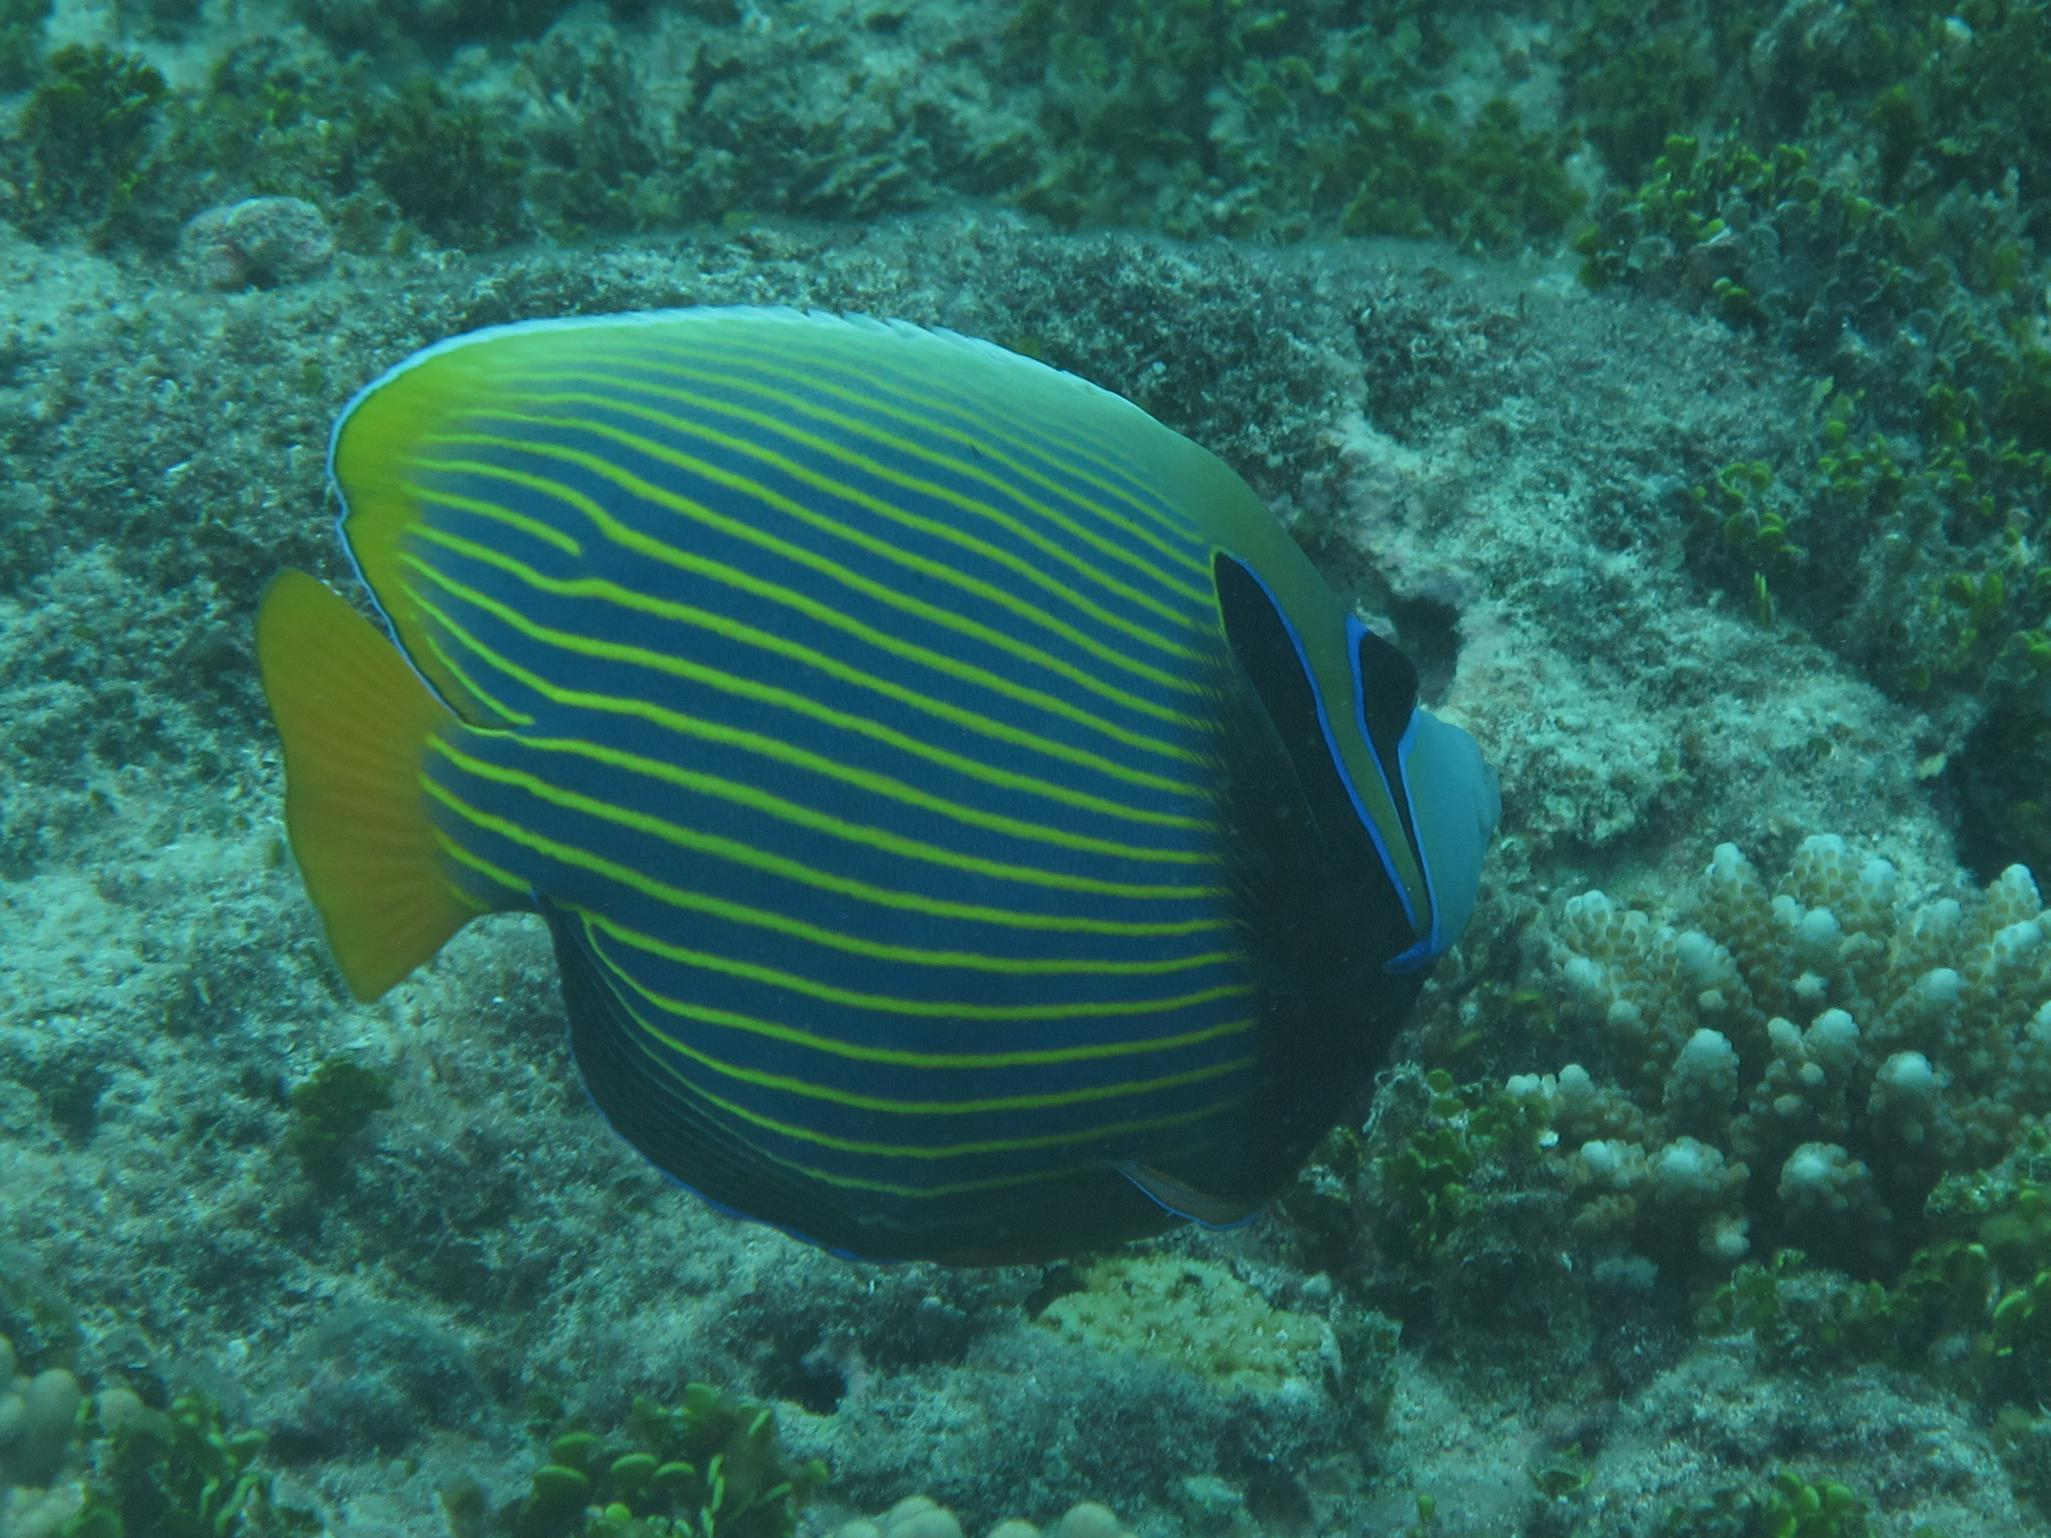Fish: (231, 260, 1513, 1307)
